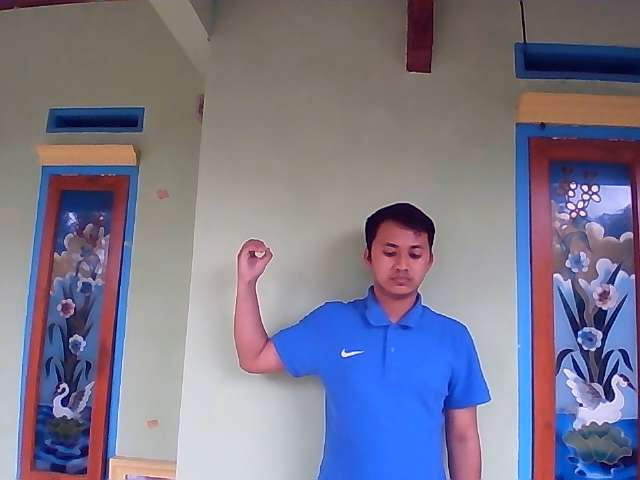O: (234, 237, 273, 283)
